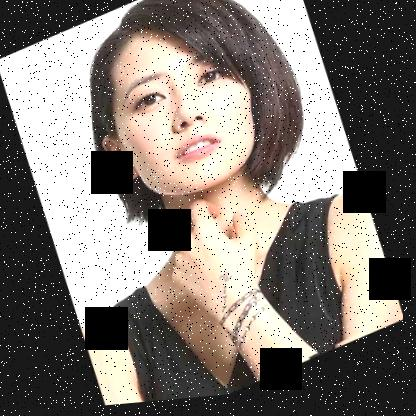Female: (71, 0, 278, 228)
